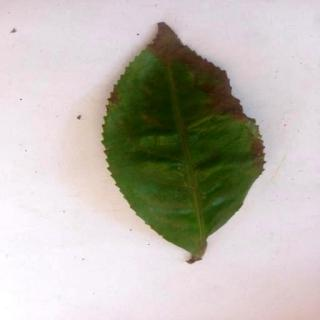Brown Blight: (109, 23, 265, 263)
